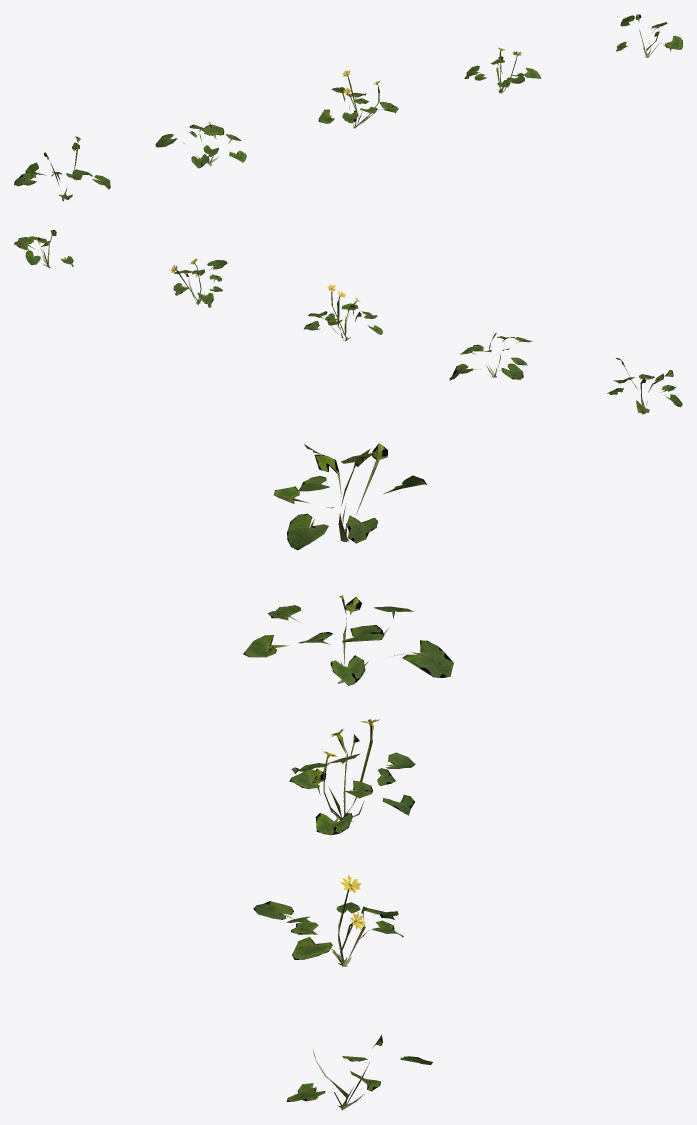
The model's file is weed_celandine.glb.
3 renders of one model, top to bottom at view 1: azimuth 30°, elevation 25°; view 2: azimuth 150°, elevation 25°; view 3: azimuth 270°, elevation 25°, orthographic. The views are drawn at different scales.
Parts seen in each view (by area): view 1: weed_celandine; view 2: weed_celandine; view 3: weed_celandine.
Boxes of the visible parts, left/top/right/bottom form: weed_celandine: left=14, top=14, right=682, bottom=201; weed_celandine: left=14, top=230, right=682, bottom=414; weed_celandine: left=243, top=443, right=453, bottom=1110.
Size of the model in its own units: 2.7 by 0.22 by 0.3766.
1 material, 1 textured.
